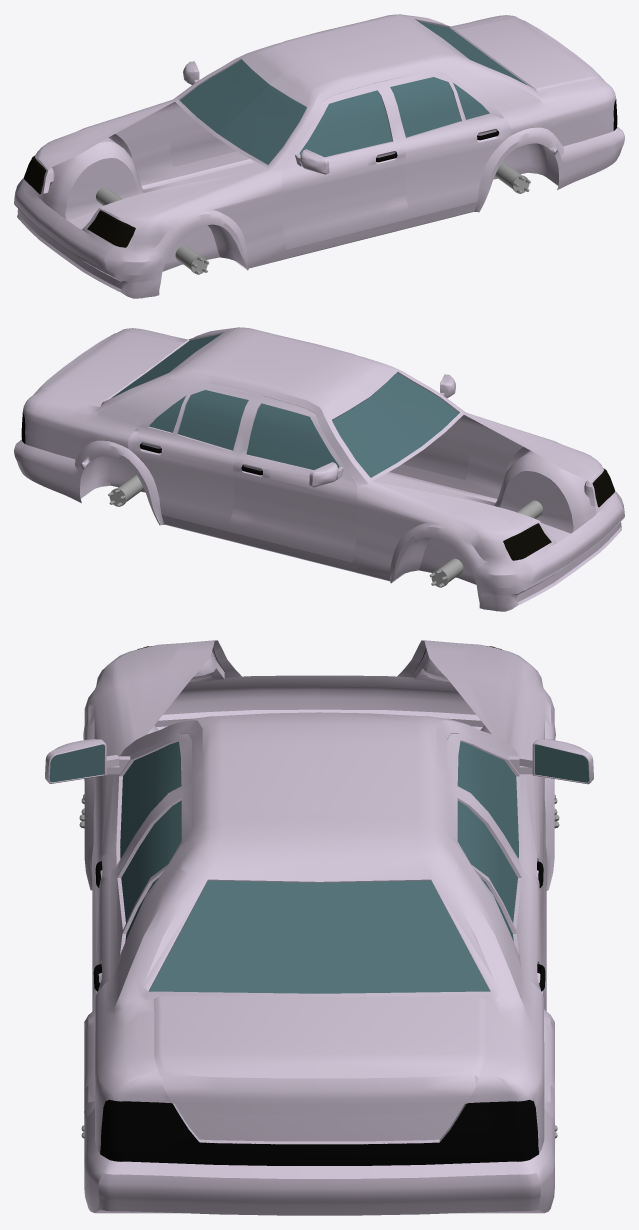
Rendered from Carro_ANC.fbx.
The picture shows the model from 3 angles, top to bottom: view 1: azimuth 30°, elevation 25°; view 2: azimuth 150°, elevation 25°; view 3: azimuth 270°, elevation 25°; orthographic projection. The views are drawn at different scales.
Visible parts, largest first — view 1: Object112, Object2, Object3, Object1, Object21, Object4, cylinder2, Object111, Object41; view 2: Object112, Object21, Object31, Object1, Object2, Object41, cylinder2, Object1111, Object4; view 3: Object112, Object1, Object2, Object21, Object31, Object3, Object111, Object1111.
Part boxes in pixels (<box>): Object112: <box>14,14,624,298</box>; Object2: <box>281,82,409,249</box>; Object3: <box>381,70,511,218</box>; Object1: <box>455,18,602,90</box>; Object21: <box>169,102,236,166</box>; Object4: <box>87,210,135,247</box>; cylinder2: <box>96,187,199,269</box>; Object111: <box>300,149,329,174</box>; Object41: <box>24,155,46,194</box>; Object112: <box>14,327,624,611</box>; Object21: <box>229,395,357,562</box>; Object31: <box>127,383,257,531</box>; Object1: <box>36,331,183,403</box>; Object2: <box>402,415,469,479</box>; Object41: <box>503,523,551,560</box>; cylinder2: <box>439,500,542,582</box>; Object1111: <box>309,462,338,487</box>; Object4: <box>592,468,614,507</box>; Object112: <box>83,640,555,1215</box>; Object1: <box>153,996,485,1144</box>; Object2: <box>92,733,191,1006</box>; Object21: <box>447,733,546,1004</box>; Object31: <box>447,782,546,1010</box>; Object3: <box>92,782,191,1011</box>; Object111: <box>45,739,106,783</box>; Object1111: <box>532,739,593,784</box>.
Bounding box in the file's own units: 25.25 × 6.53 × 11.47.
